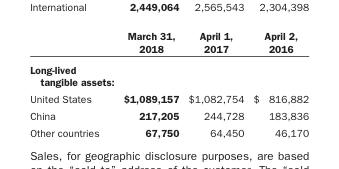table: (29, 29, 308, 138)
table column: (29, 29, 110, 138), (110, 29, 183, 138), (183, 29, 247, 138), (247, 29, 308, 138)
table column header: (29, 29, 308, 58)
table projected row header: (29, 58, 308, 90)
table row: (29, 58, 308, 90), (29, 29, 308, 58), (29, 90, 308, 107), (29, 107, 308, 123), (29, 123, 308, 138)
